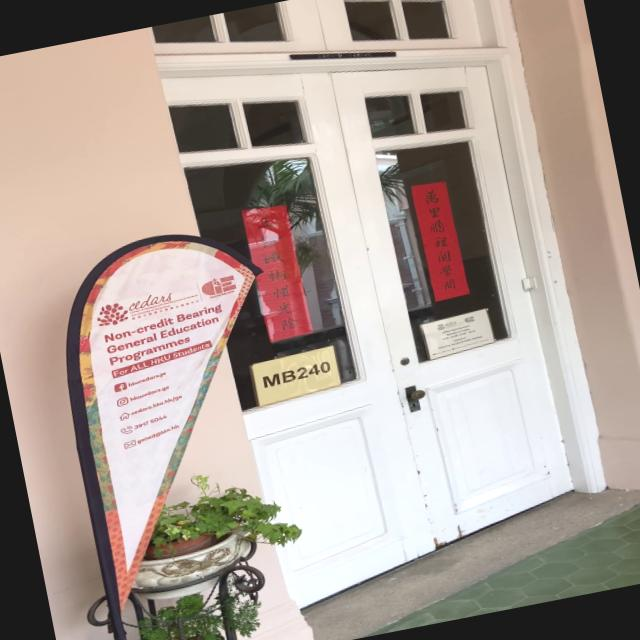room240: (251, 346, 342, 403)
